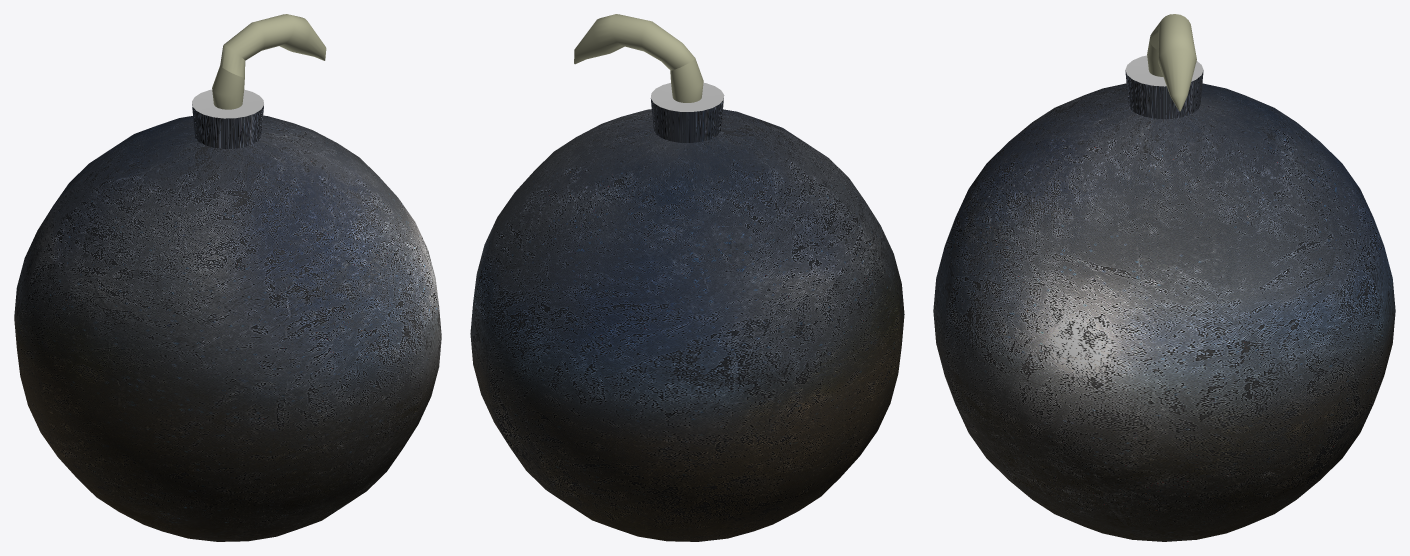
File: bomb.fbx
3 renders of one model, left to right at view 1: azimuth 30°, elevation 25°; view 2: azimuth 150°, elevation 25°; view 3: azimuth 270°, elevation 25°, orthographic. The views are drawn at different scales.
Parts seen in each view (by area): view 1: pSphere1; view 2: pSphere1; view 3: pSphere1.
Boxes of the visible parts, left/top/right/bottom form: pSphere1: left=14, top=14, right=441, bottom=541; pSphere1: left=470, top=14, right=904, bottom=541; pSphere1: left=933, top=14, right=1395, bottom=541.
Size of the model in its own units: 231 by 288 by 231.
3 materials, 1 textured.
